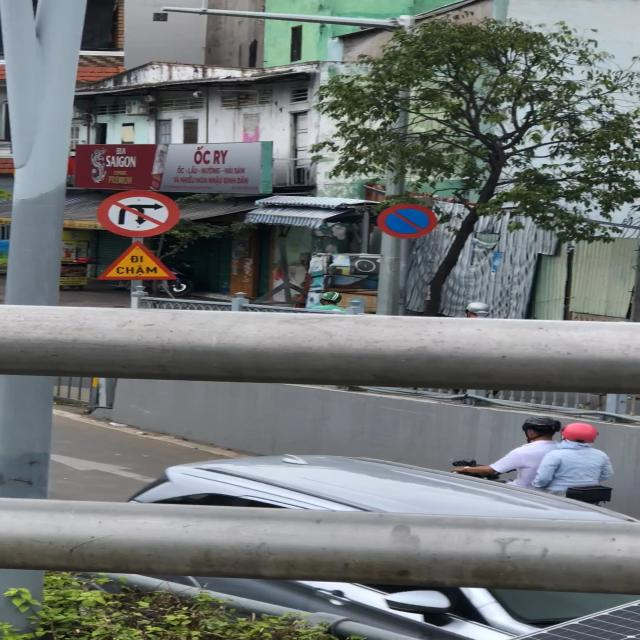Bien bao cam re phai va quay dau: (94, 188, 182, 240)
